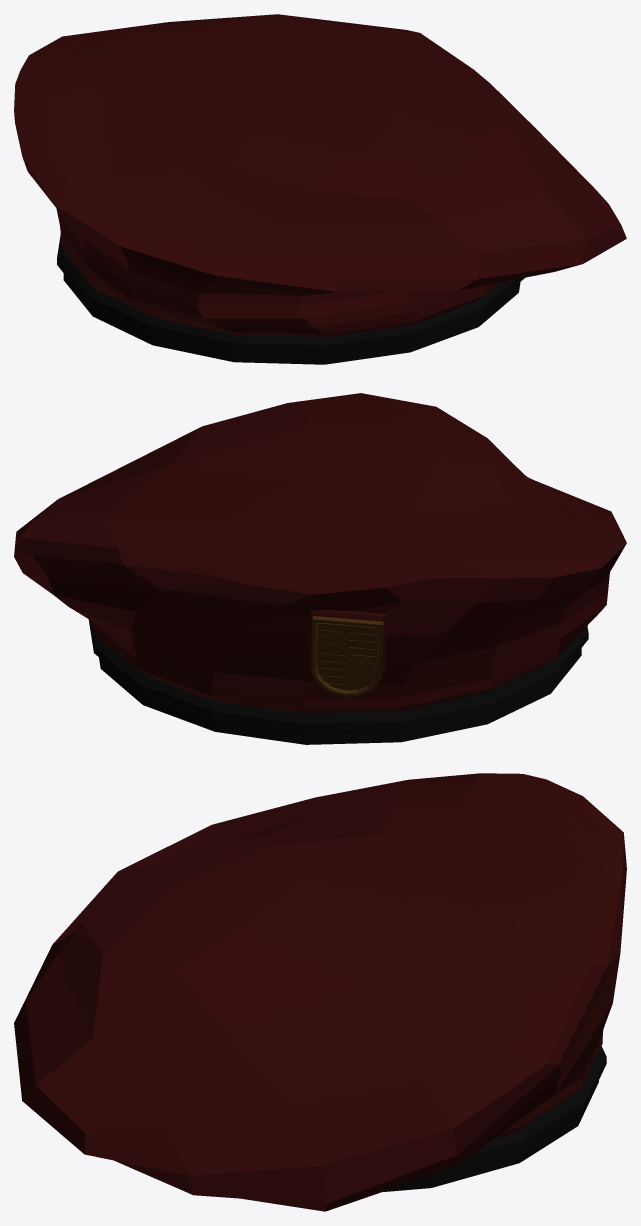
Rendered from beret.obj.
The picture shows the model from 3 angles, top to bottom: view 1: azimuth 30°, elevation 25°; view 2: azimuth 150°, elevation 25°; view 3: azimuth 270°, elevation 25°; orthographic projection. The views are drawn at different scales.
Parts seen in each view (by area): view 1: Beret1, Edge1; view 2: Beret1, Edge1, Badge1; view 3: Beret1, Edge1.
Part boxes in pixels (x1,y1,x2,y2): Beret1: (14, 14, 626, 336); Edge1: (57, 234, 524, 364); Beret1: (14, 393, 626, 712); Edge1: (88, 619, 588, 744); Badge1: (311, 615, 383, 696); Beret1: (14, 773, 626, 1211); Edge1: (382, 1046, 606, 1192).
Bounding box in the file's own units: 1.58 × 0.5116 × 1.41.
